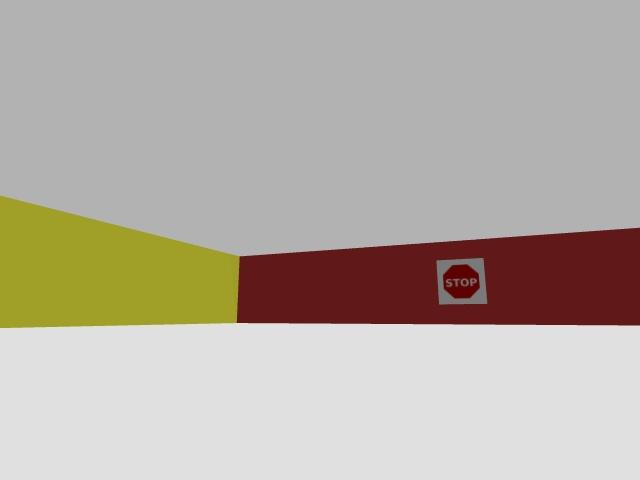stopsign: (437, 258, 487, 304)
